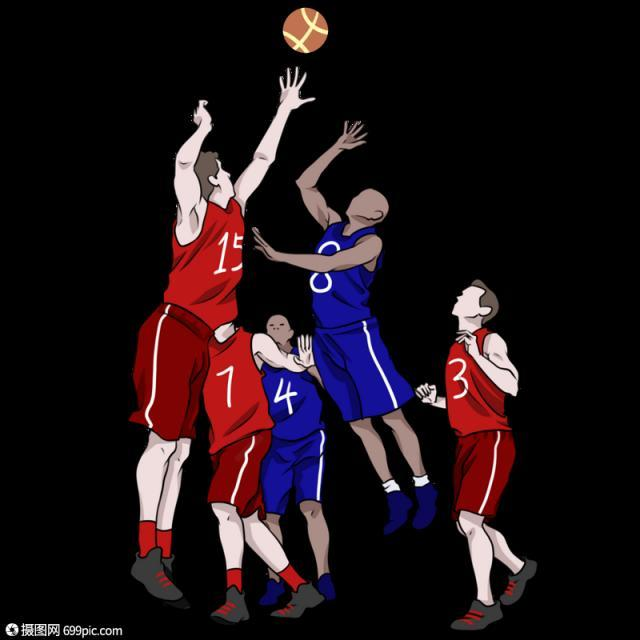rim: (279, 5, 332, 56)
